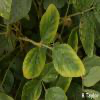Soyabean leaf: (52, 43, 86, 78), (39, 3, 60, 45), (22, 46, 46, 79)
